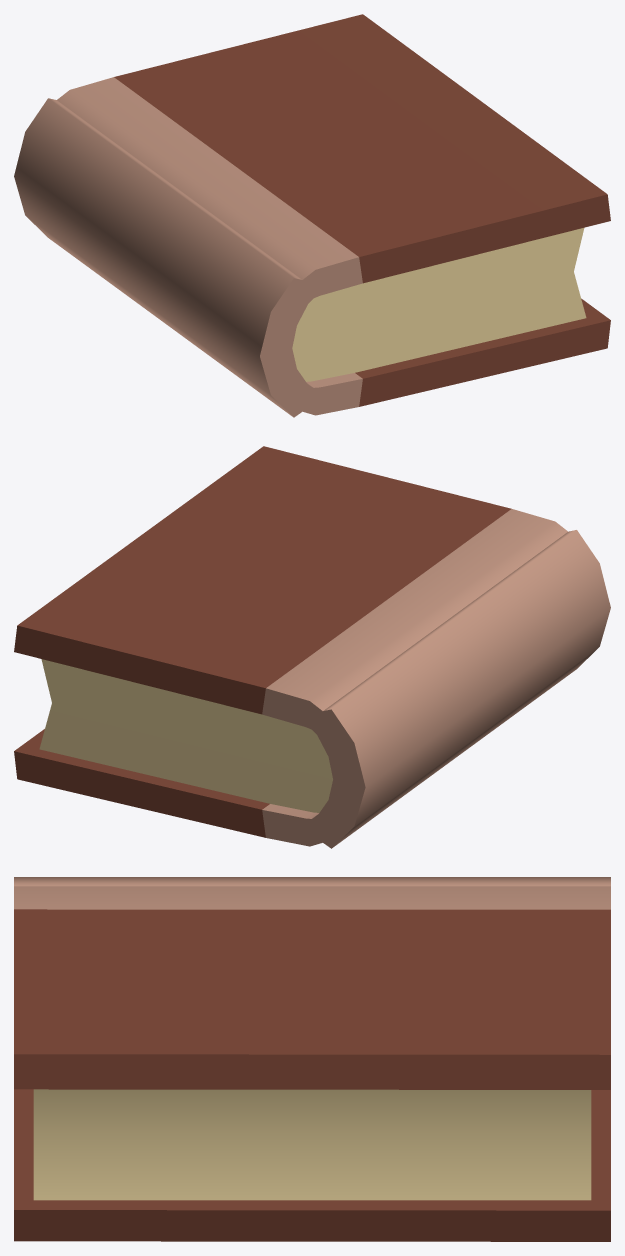
Rendered from Book_A.fbx.
3 renders of one model, top to bottom at view 1: azimuth 30°, elevation 25°; view 2: azimuth 150°, elevation 25°; view 3: azimuth 270°, elevation 25°, orthographic. The views are drawn at different scales.
Visible parts, largest first — view 1: Book_A; view 2: Book_A; view 3: Book_A.
Part boxes in pixels (<box>): Book_A: <box>14,14,610,417</box>; Book_A: <box>14,446,610,848</box>; Book_A: <box>14,877,610,1241</box>.
Size of the model in its own units: 20.83 by 8.71 by 25.18.
